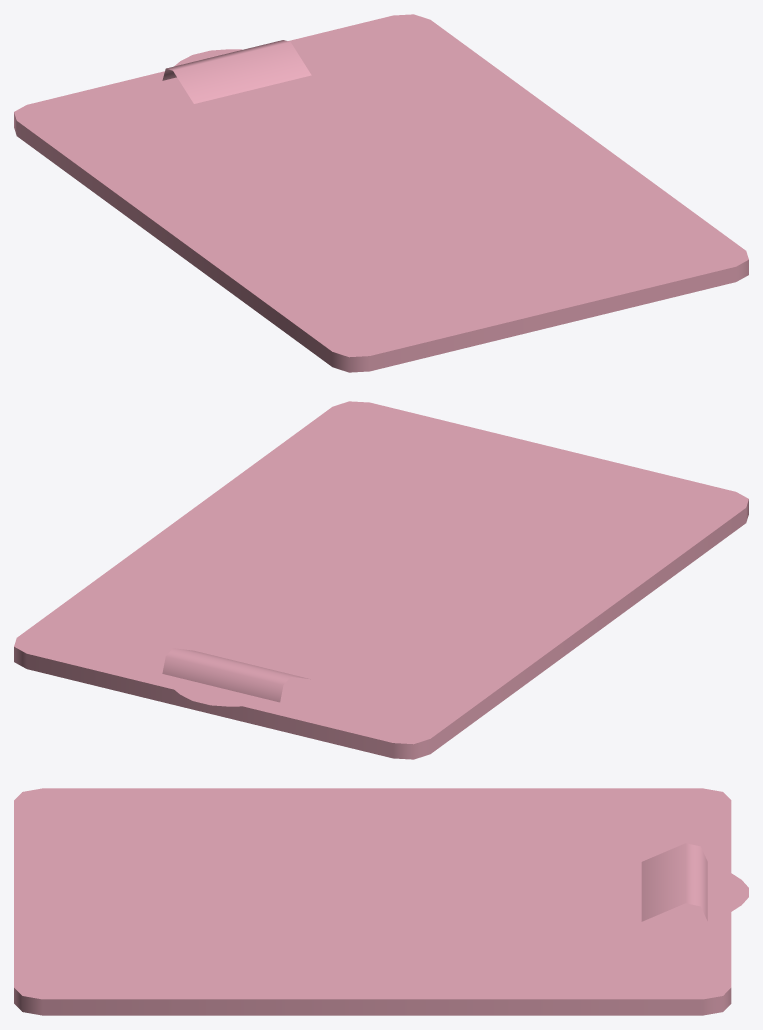
File: Clipboard.fbx
3 views of the same model, one above another, from view 1: azimuth 30°, elevation 25°; view 2: azimuth 150°, elevation 25°; view 3: azimuth 270°, elevation 25° (orthographic). The views are drawn at different scales.
Visible parts, largest first — view 1: Clipboard; view 2: Clipboard; view 3: Clipboard.
Boxes of the visible parts, x1,y1,x2,y2 form: Clipboard: [14, 14, 748, 372]; Clipboard: [14, 401, 748, 759]; Clipboard: [14, 788, 748, 1015].
Size of the model in its own units: 34.79 by 2.83 by 51.19.
